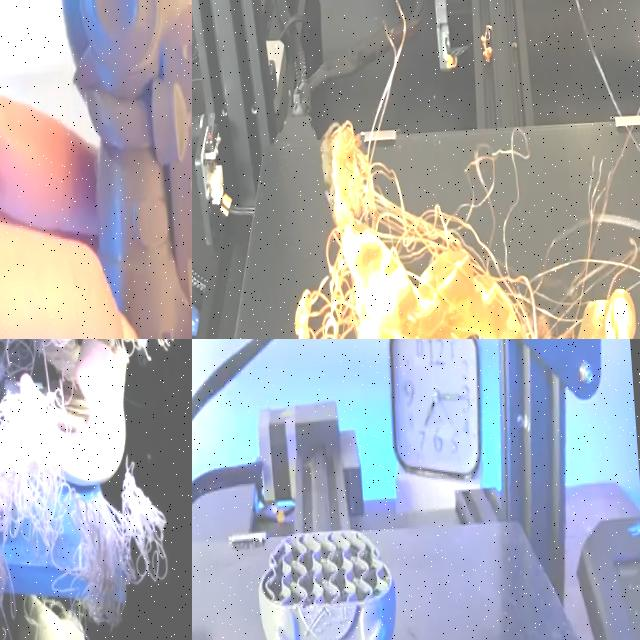spaghetti: (228, 73, 640, 339), (0, 375, 168, 640)
